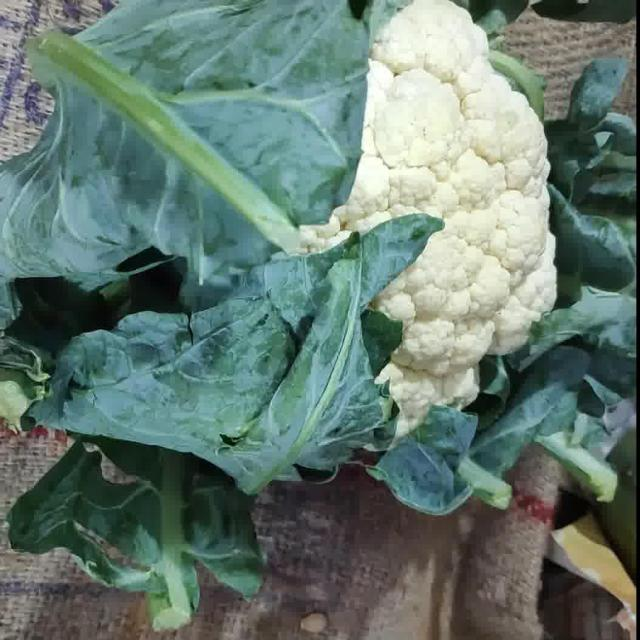Cauliflower: (300, 0, 556, 436)
